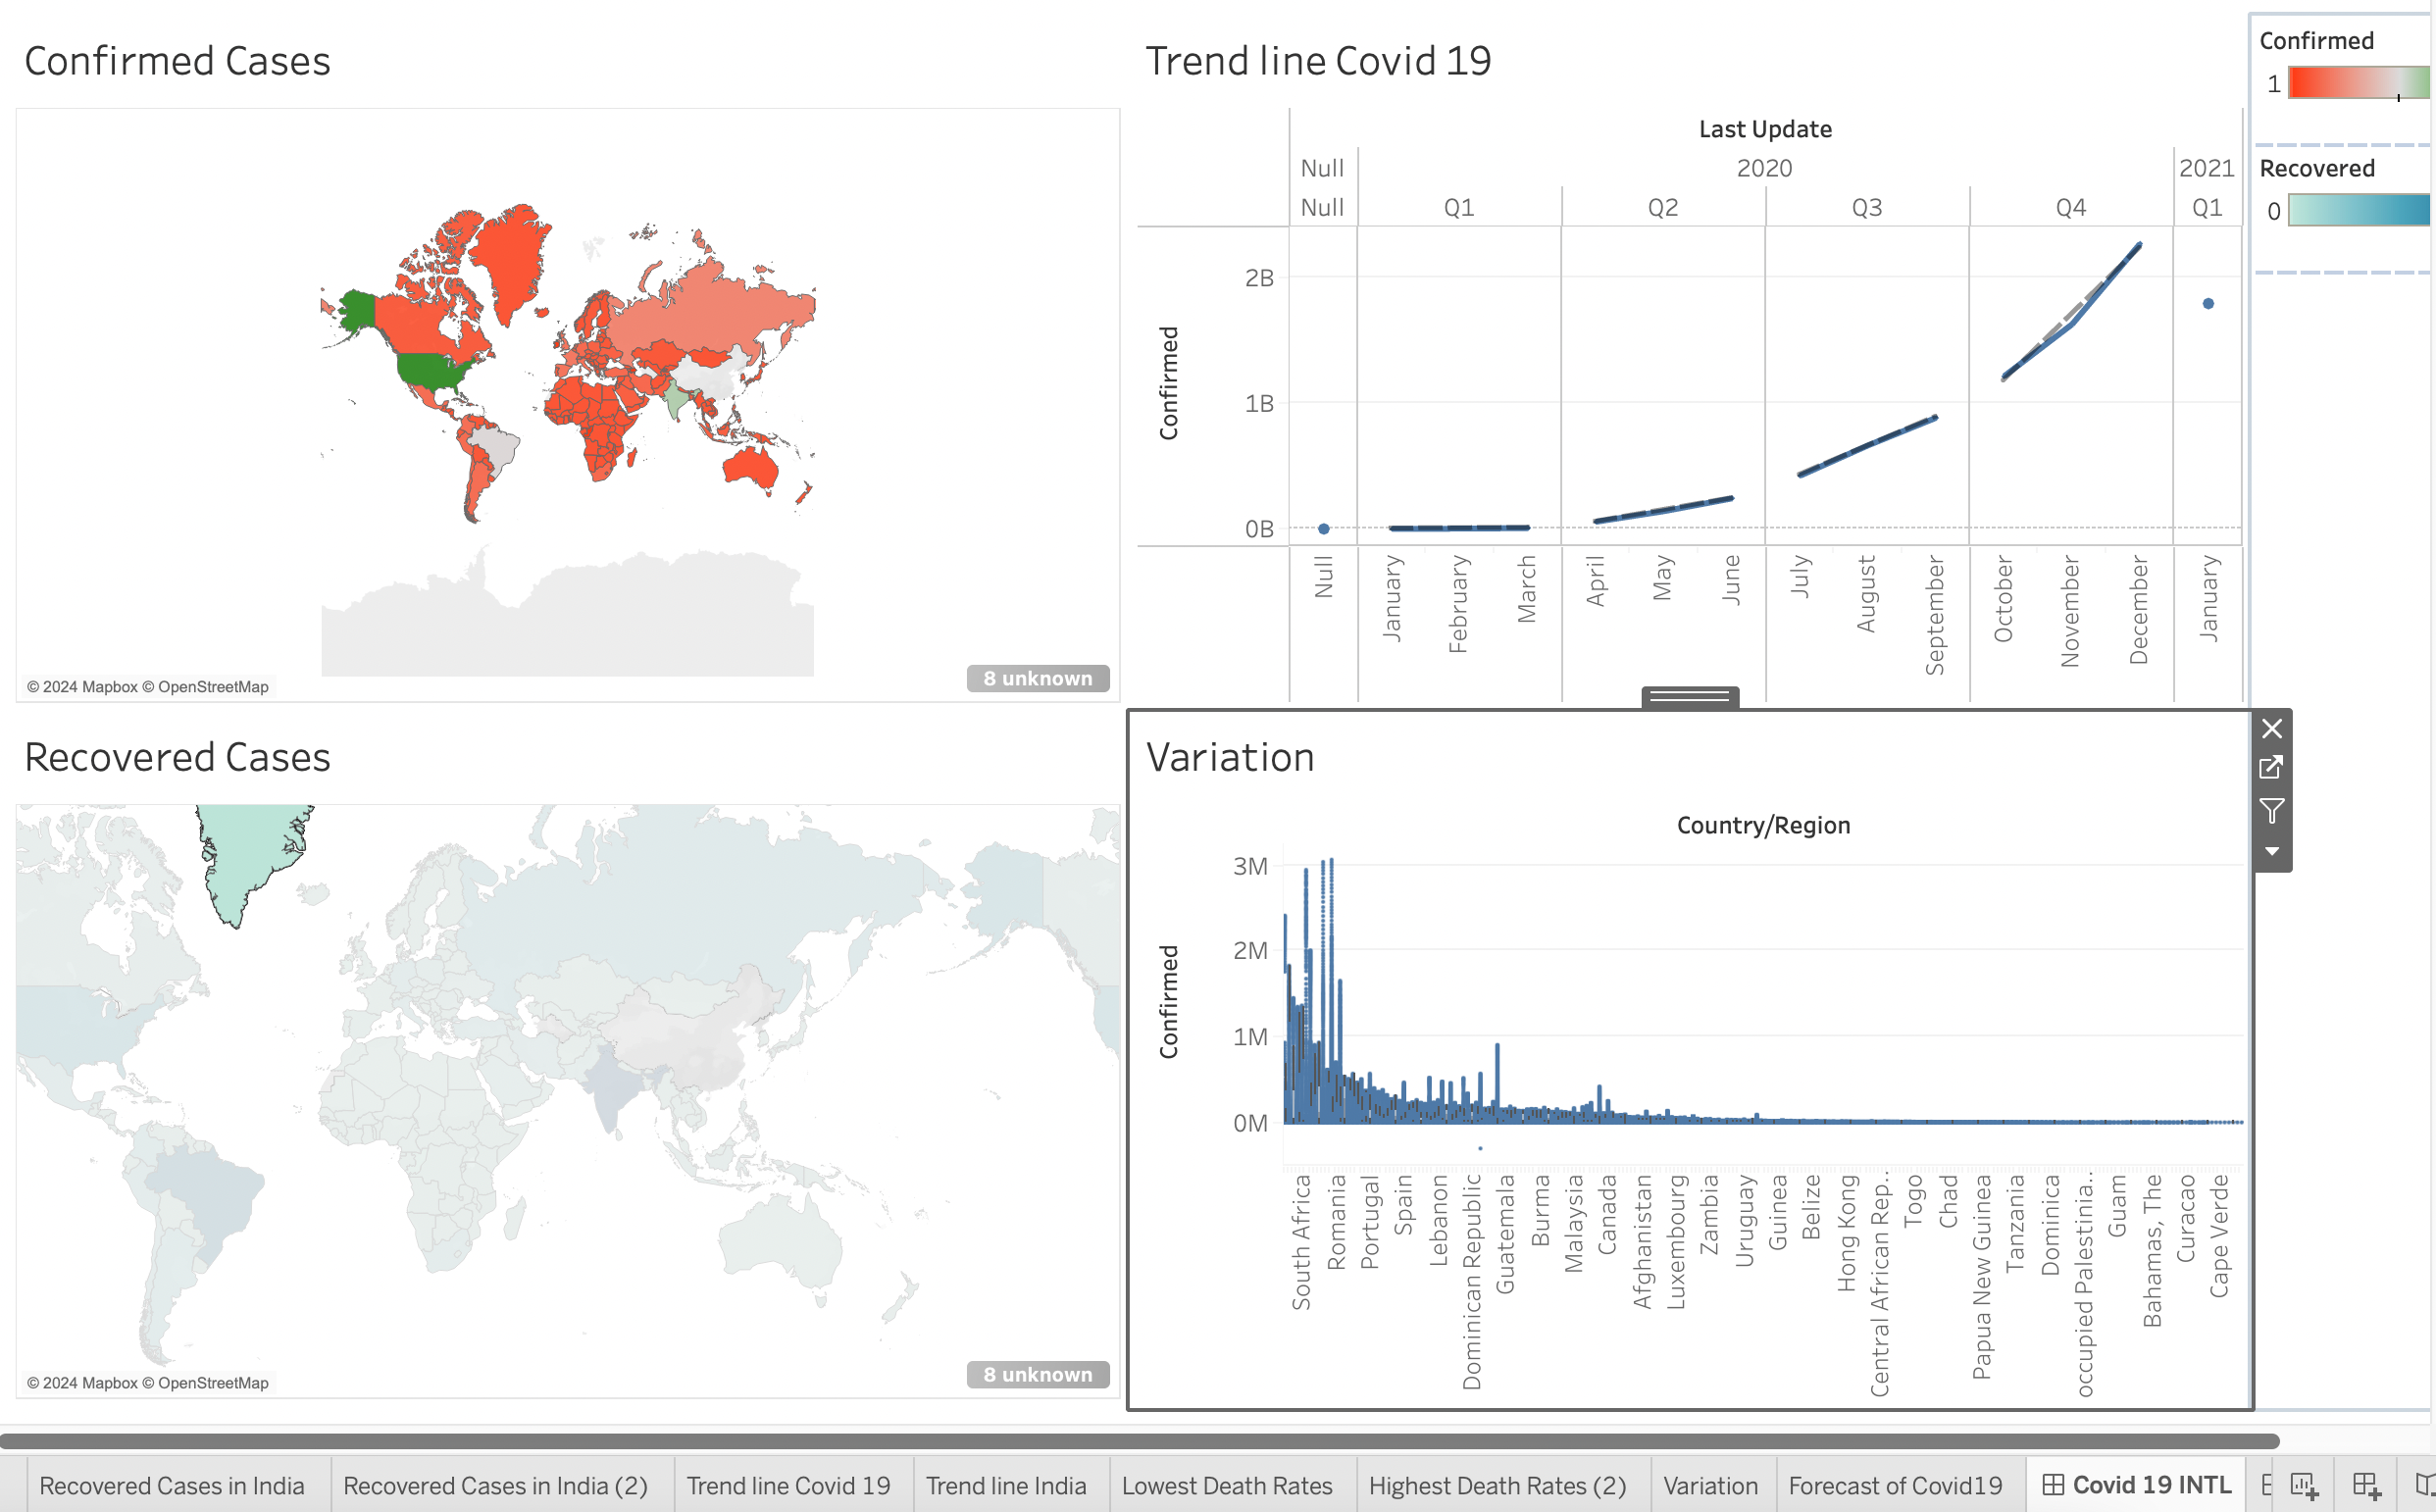

Layout of this report page (visuals, bound fields, positions):
{"tool":"tableau","page":{"name":"Covid 19 INTL","canvas":[1000,1000],"units":"permille","ordinal":0},"visuals":[{"type":"worksheet","title":"Confirmed Cases","mark":"Automatic","box":[6.1,11,433.3,489]},{"type":"worksheet","title":"Trend line Covid 19","mark":"Automatic","rows":["Confirmed"],"cols":["Last Update","Last Update","Last Update"],"box":[439.4,11,433.3,489]},{"type":"legend","title":"Confirmed Cases","param":"[federated.0s7g4i900o8oap18lur8m1t1pk2w].[sum:Confirmed:qk]","box":[872.7,11,121.2,89.5]},{"type":"legend","title":"Recovered Cases","param":"[federated.0s7g4i900o8oap18lur8m1t1pk2w].[sum:Recovered:qk]","box":[872.7,100.5,121.2,89.5]},{"type":"worksheet","title":"Recovered Cases","mark":"Automatic","box":[6.1,500,433.3,489]},{"type":"worksheet","title":"Highest Death Rates (2)","mark":"Automatic","rows":["Country/Region"],"cols":["ObservationDate"],"box":[439.4,500,433.3,489]}]}

Visuals, with their boxes on the dashboard's canvas, which has no fixed pixel size, in thousandths of its width and height (x1, y1, x2, y2). These are canvas units, not pixel positions in the 2436x1512 screenshot, which may show the page scaled, cropped or inside an application window:
"Confirmed Cases" worksheet: (left=6, top=11, right=439, bottom=500)
"Trend line Covid 19" worksheet: (left=439, top=11, right=873, bottom=500)
"Confirmed Cases" legend: (left=873, top=11, right=994, bottom=100)
"Recovered Cases" legend: (left=873, top=100, right=994, bottom=190)
"Recovered Cases" worksheet: (left=6, top=500, right=439, bottom=989)
"Highest Death Rates (2)" worksheet: (left=439, top=500, right=873, bottom=989)
